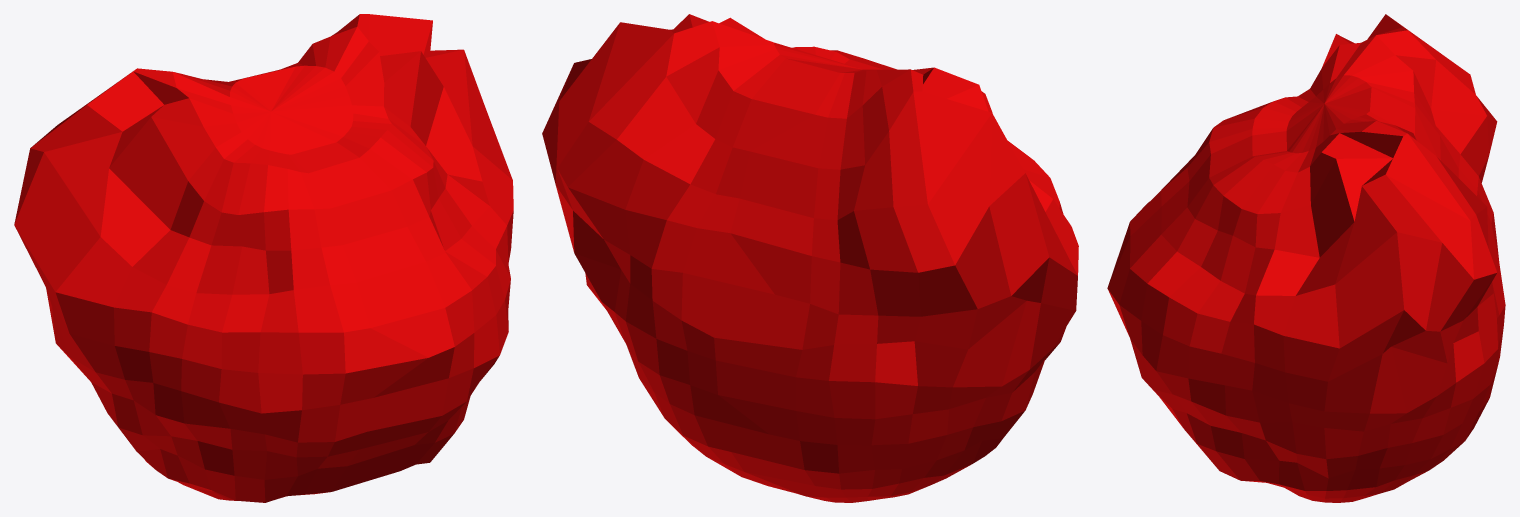
Rendered from Player_3.fbx.
The picture shows the model from 3 angles, left to right: view 1: azimuth 30°, elevation 25°; view 2: azimuth 150°, elevation 25°; view 3: azimuth 270°, elevation 25°; orthographic projection. The views are drawn at different scales.
Parts seen in each view (by area): view 1: Sphere; view 2: Sphere; view 3: Sphere.
Part boxes in pixels (x1=…): Sphere: x1=14, y1=14, x2=513, y2=502; Sphere: x1=542, y1=14, x2=1078, y2=502; Sphere: x1=1107, y1=14, x2=1505, y2=502.
Bounding box in the file's own units: 280 × 238 × 215.
